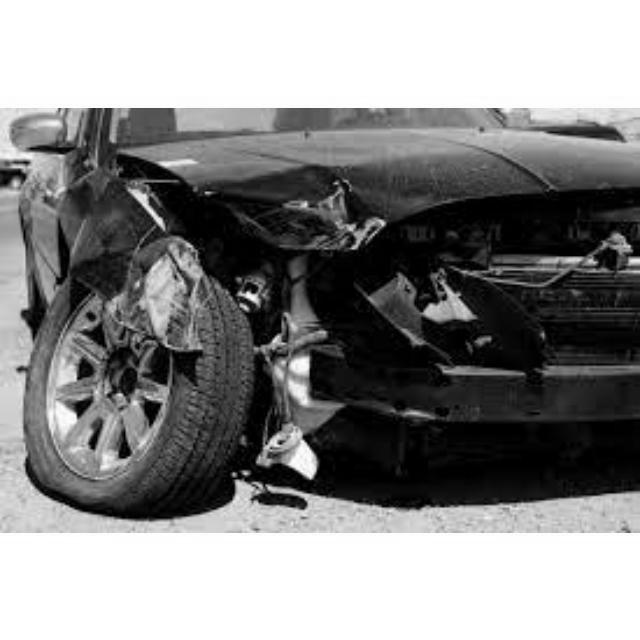bonnet-dent: (105, 121, 637, 255)
